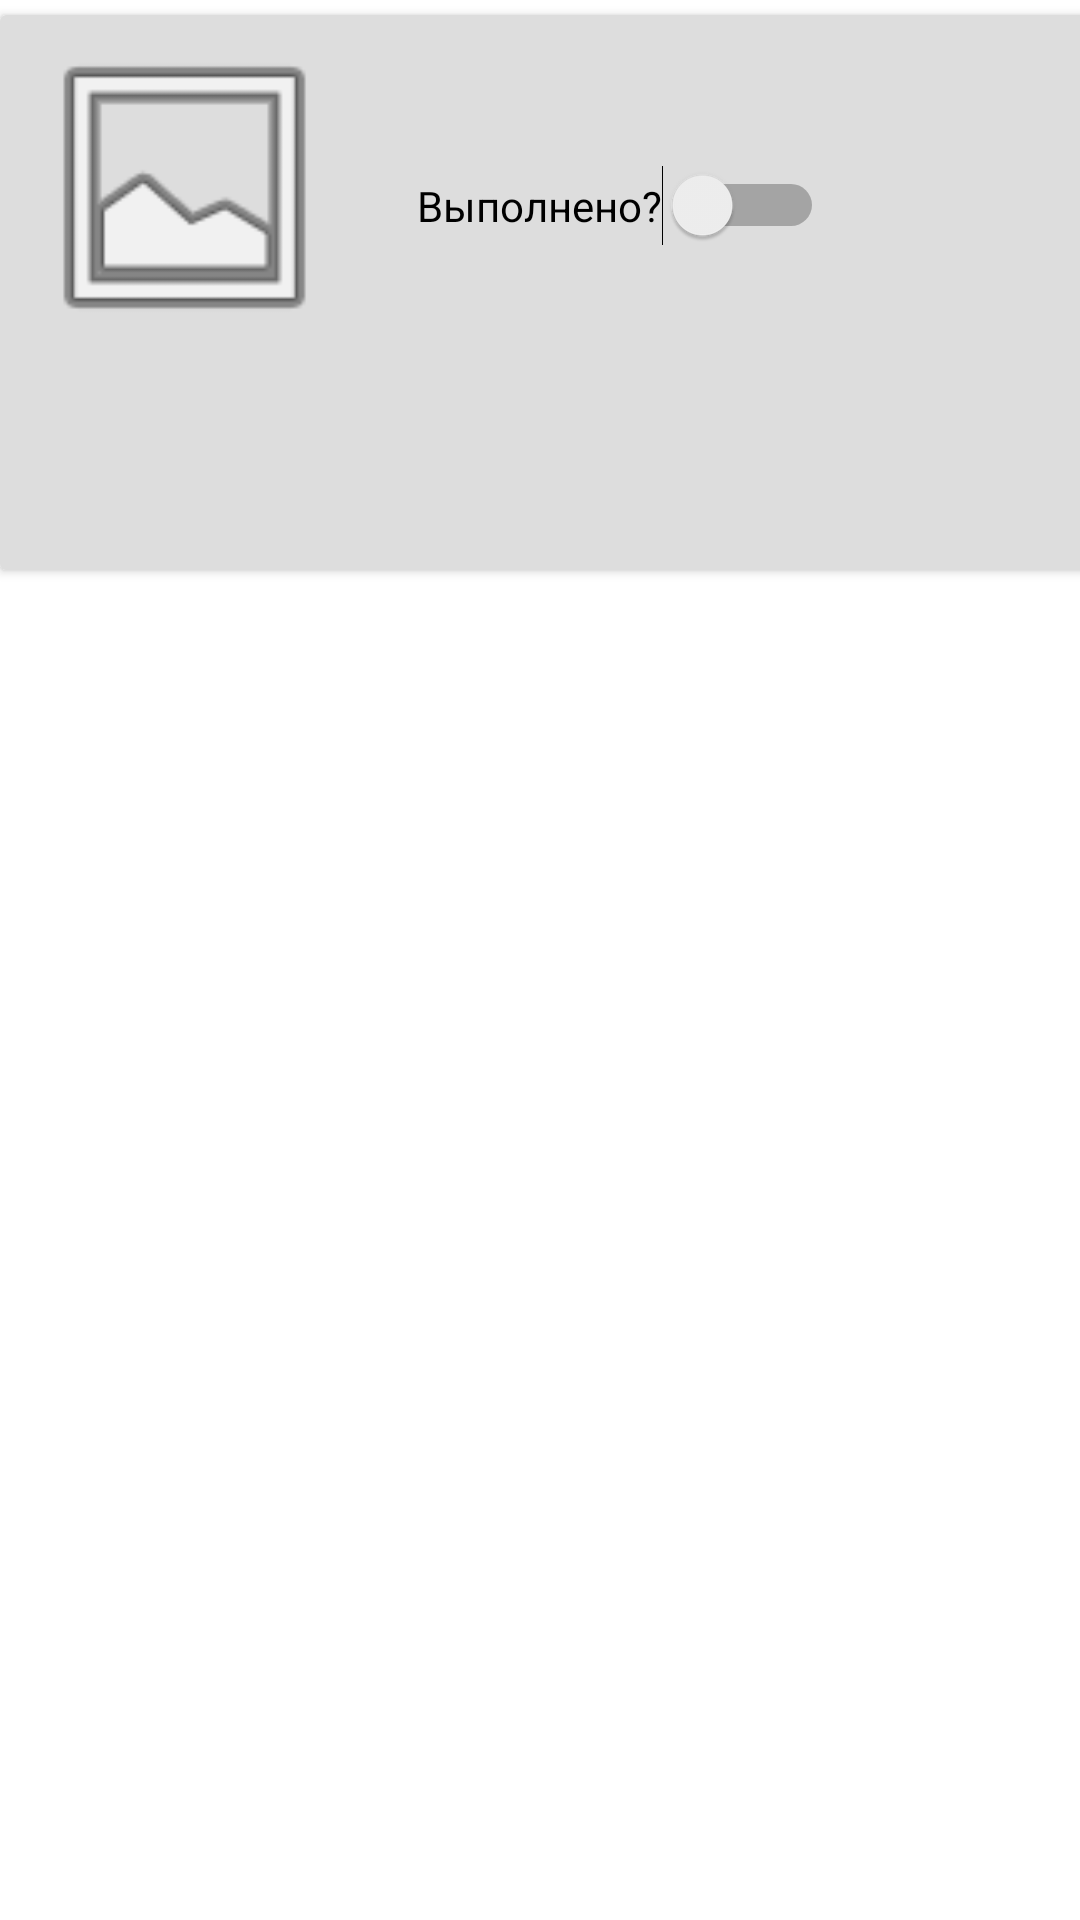

Icon click points for this 1080×1920 phone screenshot, format (x=x, y=y):
gallery: (x=184, y=187)
